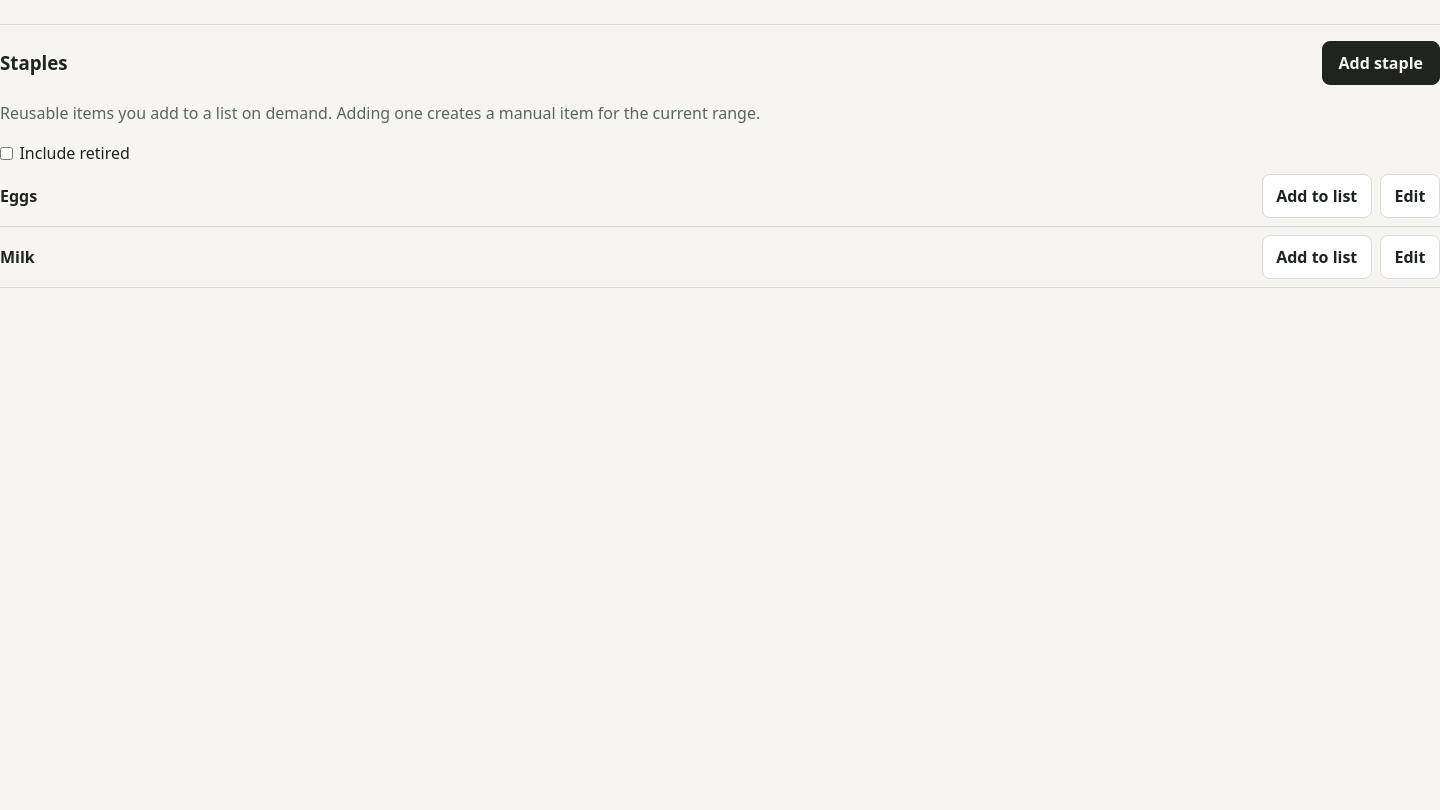
Test: staples panel › edits a staple and persists the changed fields
Click the button with aria-label "Edit Eggs" at (1410, 196), box x1=1380 y1=174 x2=1439 y2=218
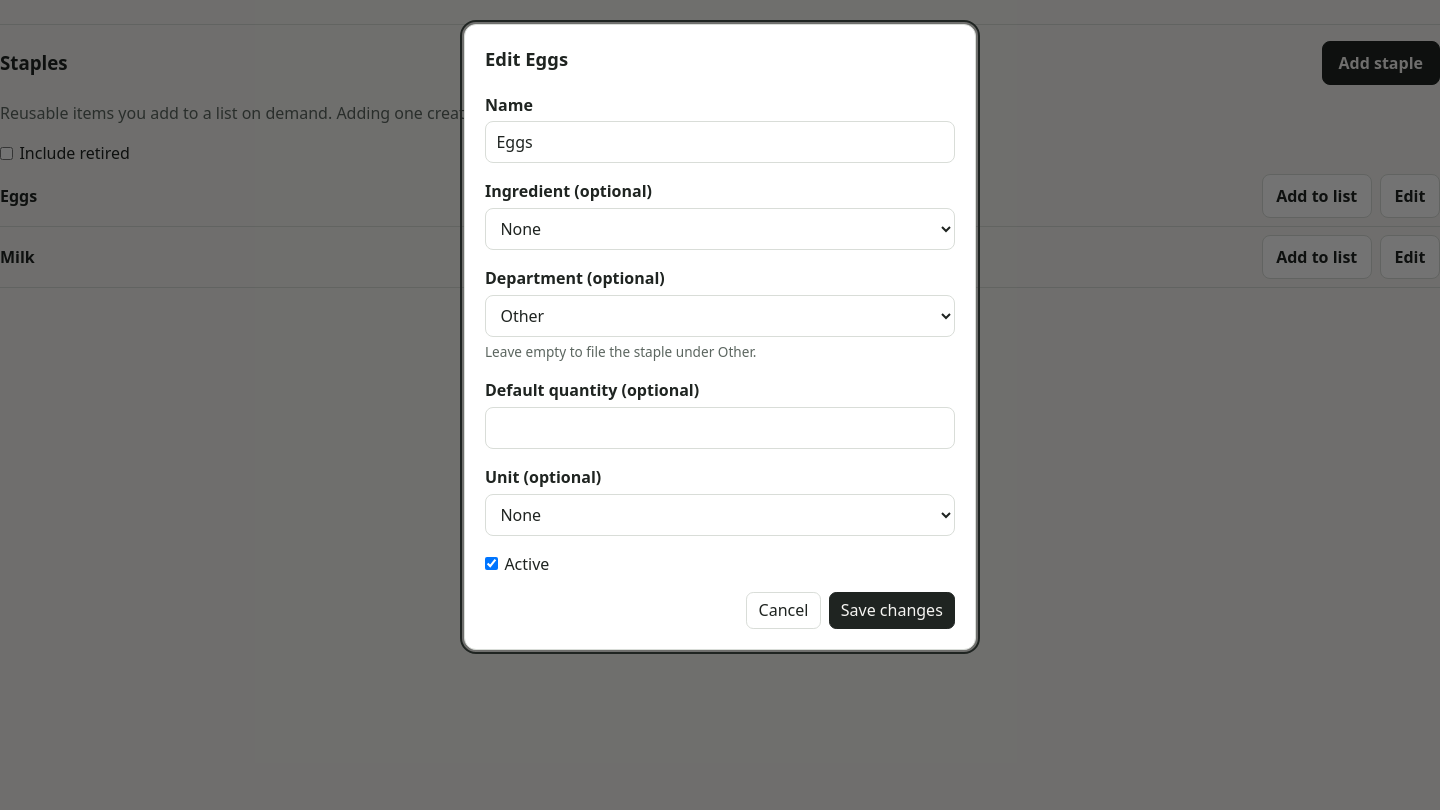
Type "12" into the number field labelled "Default quantity (optional)" at (720, 428), box x1=485 y1=407 x2=955 y2=449
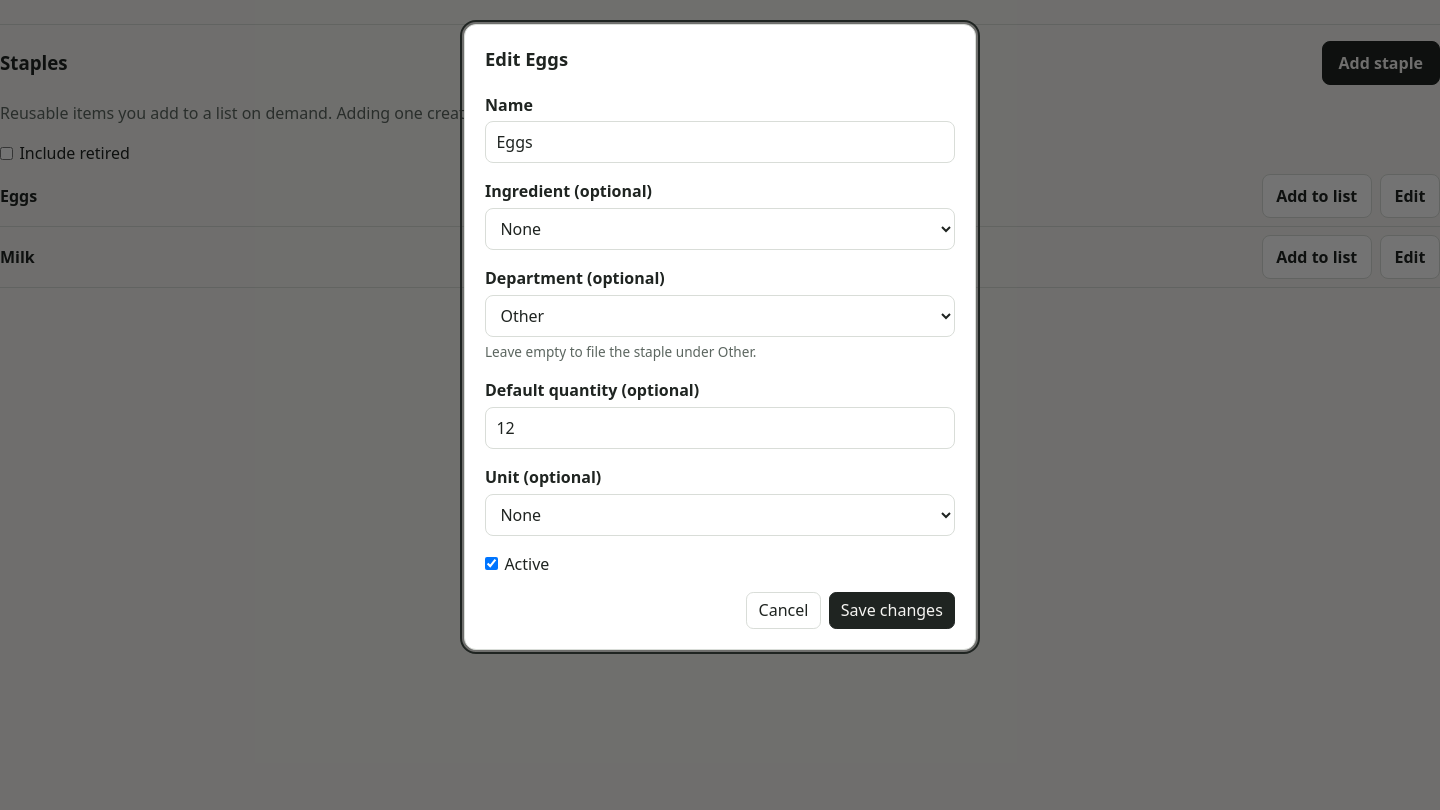
Select "Pound (lb)" in the dropdown labelled "Unit (optional)" at (720, 515), box x1=485 y1=494 x2=955 y2=536
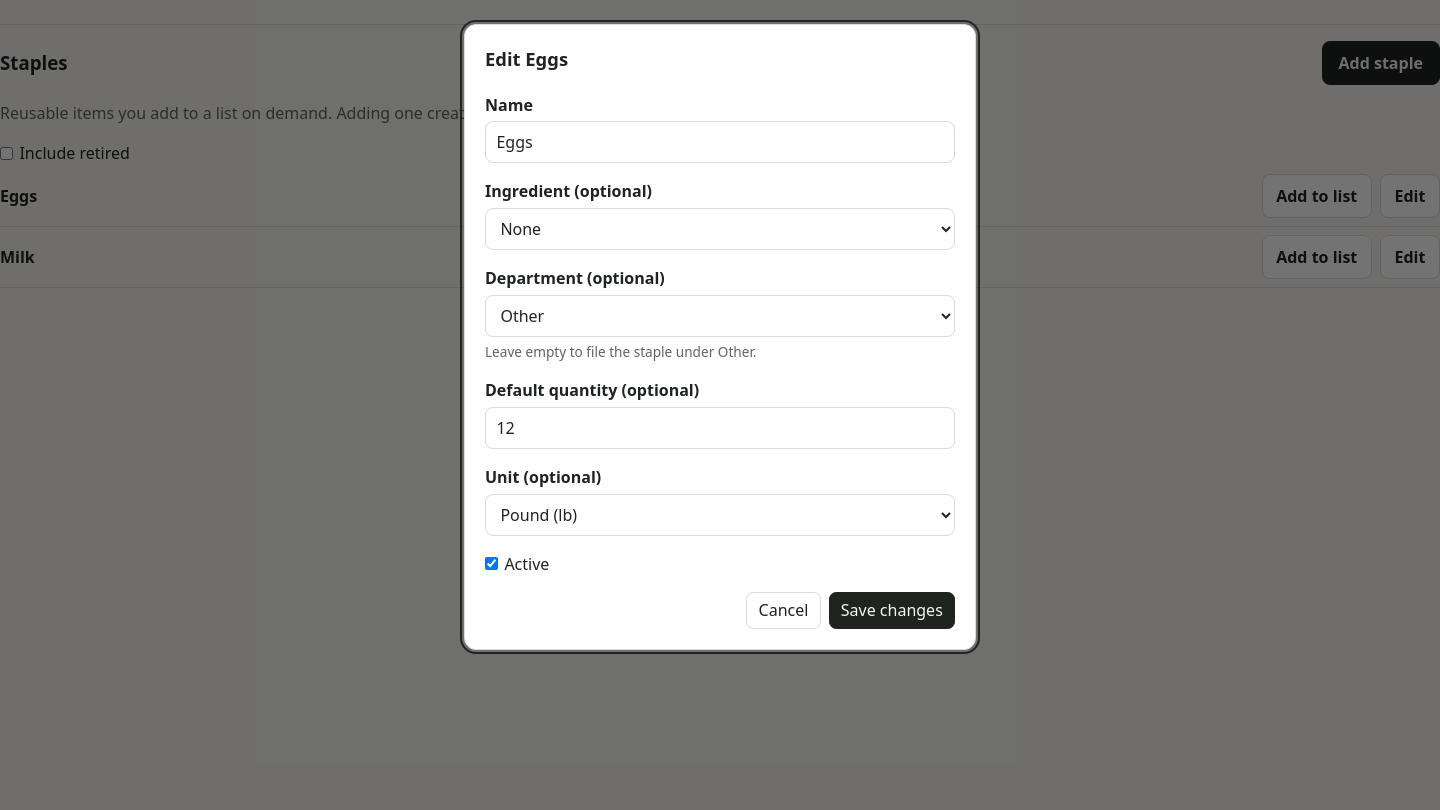
Select "Milk" in the dropdown labelled "Ingredient (optional)" at (720, 229), box x1=485 y1=208 x2=955 y2=250
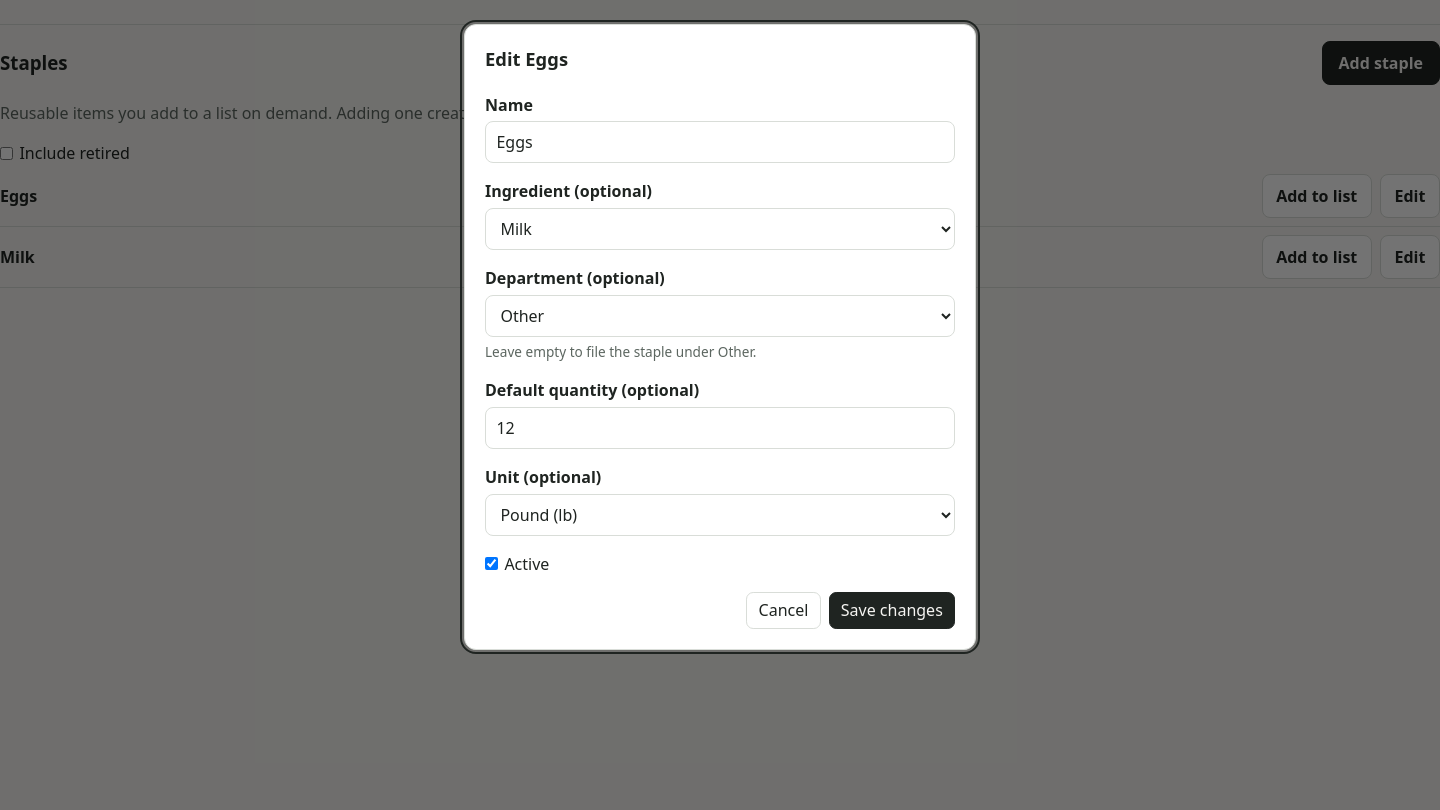
Select "Produce" in the dropdown labelled "Department (optional)" at (720, 316), box x1=485 y1=295 x2=955 y2=337
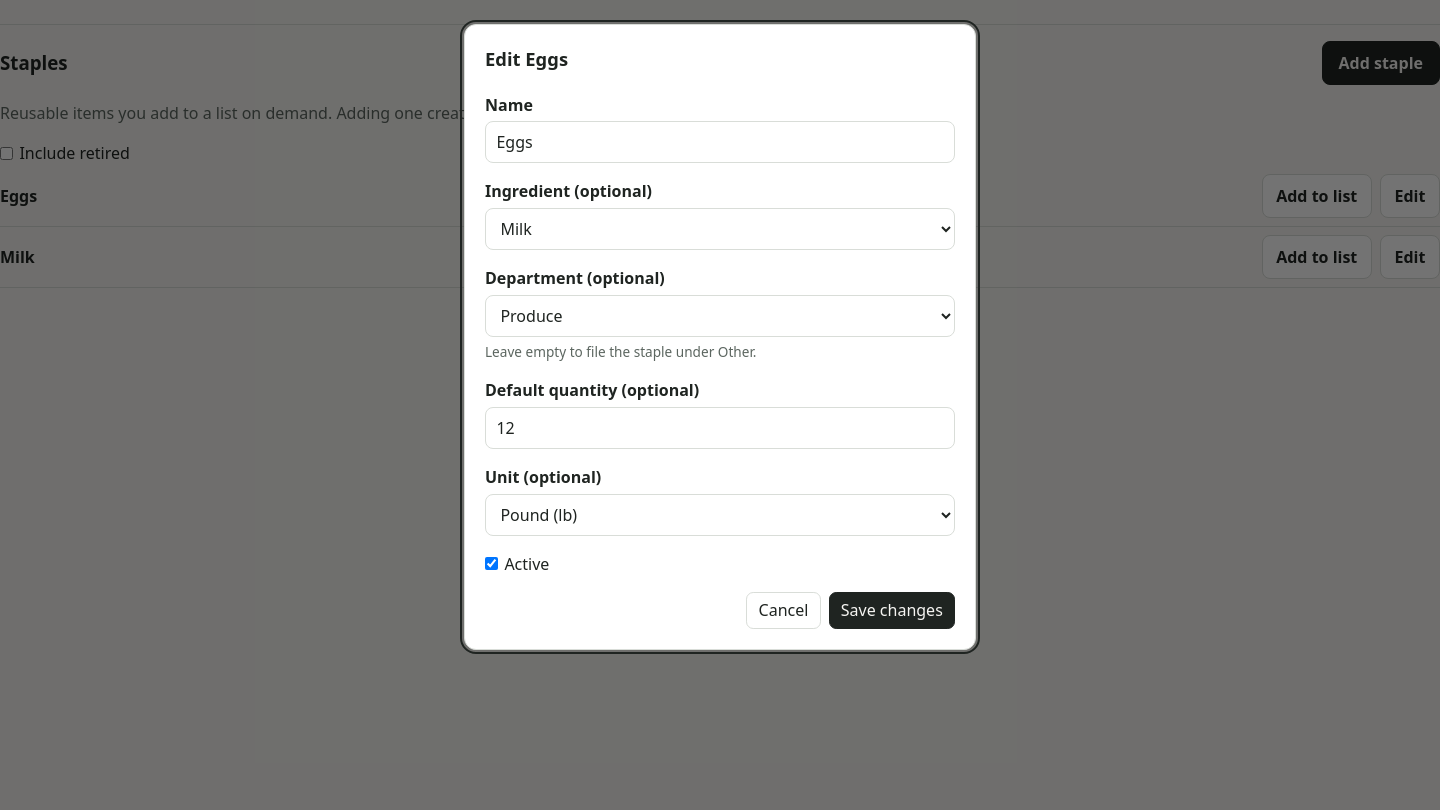
Click the button "Save changes" at (892, 610), box x1=829 y1=592 x2=955 y2=629
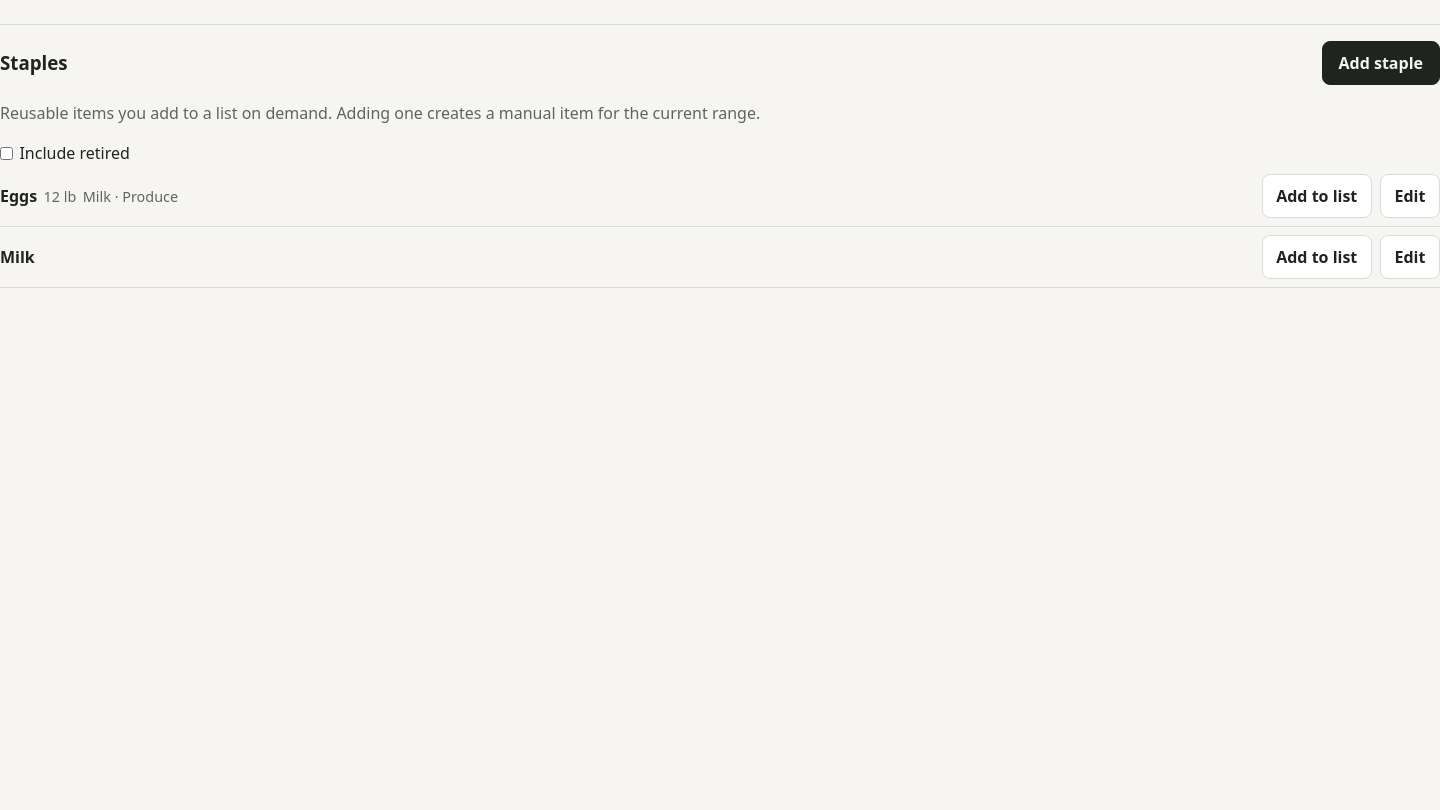
Expected: the text "12 lb" is shown, x1=44 y1=186 x2=76 y2=207
